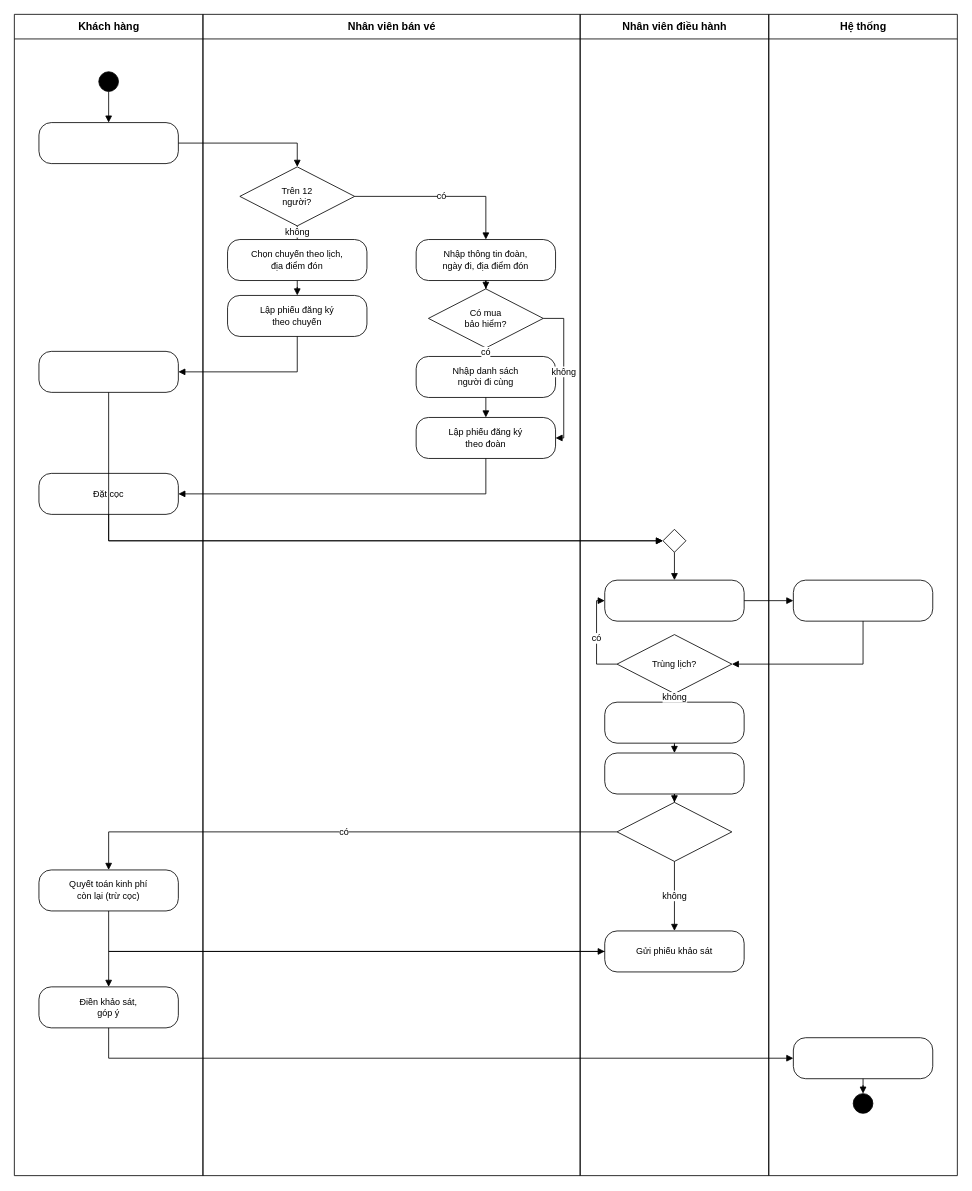
The diagram is 972 pixels wide and 1191 high, and some of its shapes have lost their labels. The centre of each missing label's shape, as x and y in pixels:
Chọn tour và số người đi: the point at 108,143
Ghi nhận góp ý: the point at 863,1058
Kiểm tra trùng lịch phân công: the point at 863,600
Kết thúc tour: the point at 674,773
Phân công hướng dẫn viên: the point at 674,600
Thanh toán tiền vé: the point at 108,371
Thực hiện tour (theo lịch): the point at 674,722
Tour của đoàn?: the point at 674,831
